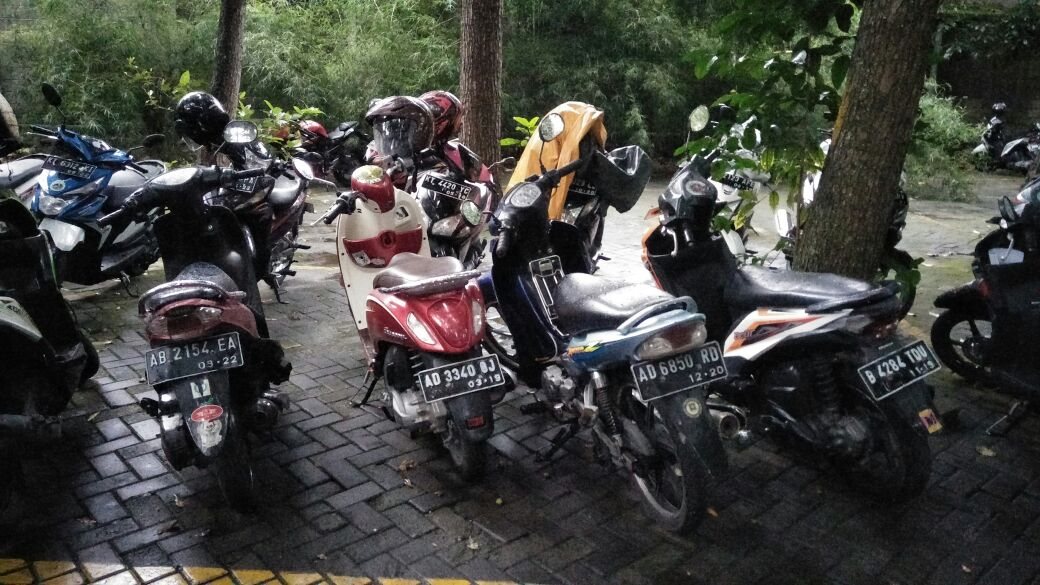plate: (860, 339, 941, 402), (630, 345, 728, 392), (145, 332, 245, 377), (422, 354, 504, 394), (421, 173, 470, 205)
